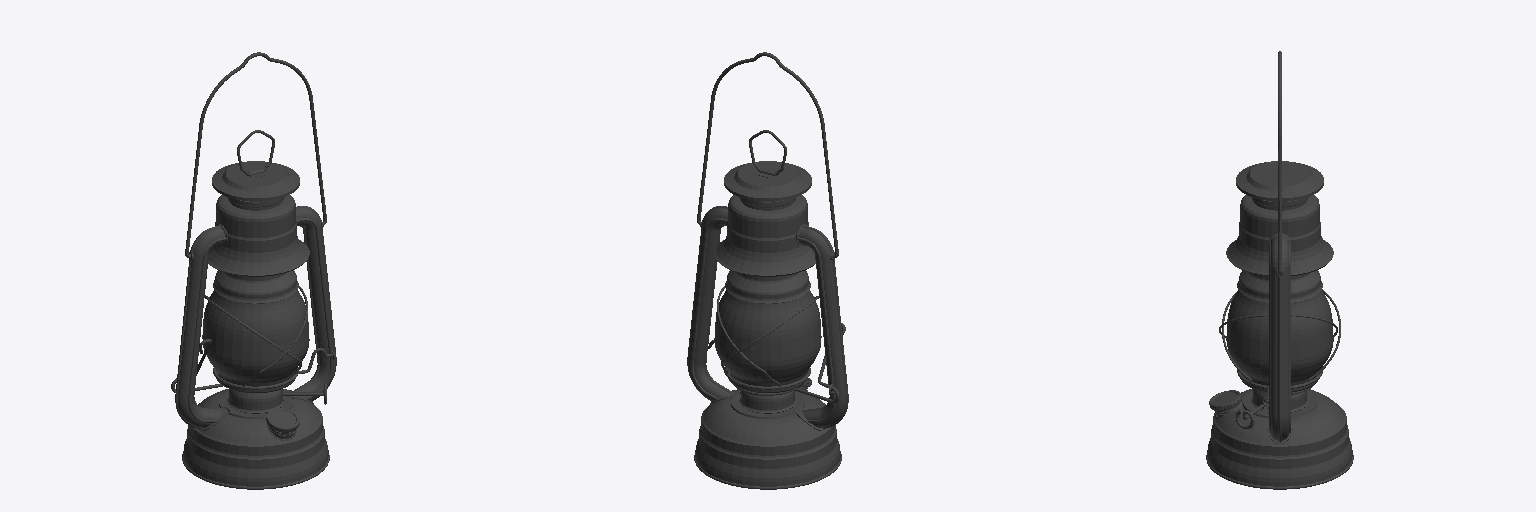
Rendered from Lantern.obj.
The picture shows the model from 3 angles: view 1: azimuth 30°, elevation 25°; view 2: azimuth 150°, elevation 25°; view 3: azimuth 270°, elevation 25°; orthographic projection.
Parts seen in each view (by area): view 1: Lantern_01_Mesh, Lantern_01_glass_Mesh.002; view 2: Lantern_01_Mesh, Lantern_01_glass_Mesh.002; view 3: Lantern_01_Mesh, Lantern_01_glass_Mesh.002.
Boxes of the visible parts, x1,y1,x2,y2 form: Lantern_01_Mesh: [171, 52, 336, 489]; Lantern_01_glass_Mesh.002: [202, 290, 309, 386]; Lantern_01_Mesh: [687, 52, 848, 489]; Lantern_01_glass_Mesh.002: [714, 290, 821, 386]; Lantern_01_Mesh: [1206, 51, 1353, 489]; Lantern_01_glass_Mesh.002: [1226, 290, 1333, 385].
Bounding box in the file's own units: 0.1221 × 0.2942 × 0.0972.